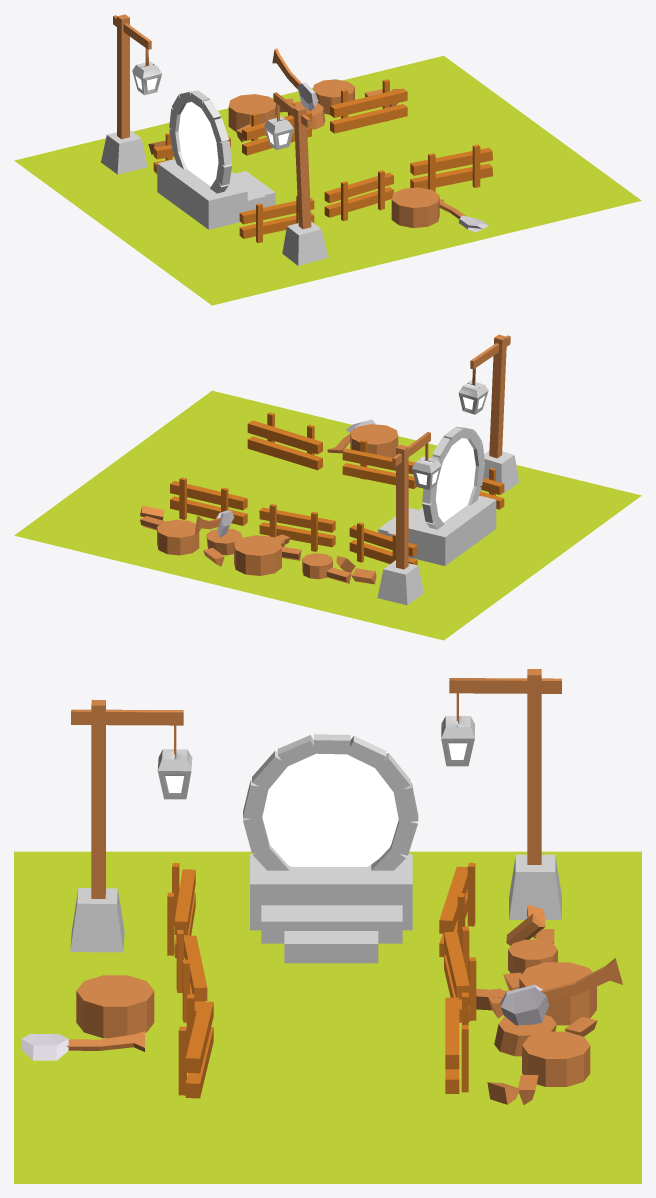
The model's file is mofa.glb.
3 views of the same model, one above another, from view 1: azimuth 30°, elevation 25°; view 2: azimuth 150°, elevation 25°; view 3: azimuth 270°, elevation 25° (orthographic). The views are drawn at different scales.
Visible parts, largest first — view 1: 平面, 立方体.036, huan, 柱体.013, 立方体.032, 立方体.027, 立方体.031, 立方体.026, 柱体.003, 立方体.003, 立方体.002, 立方体.010 (+13 smaller); view 2: 平面, 立方体.036, huan, 柱体.003, 立方体.032, 立方体.027, 立方体.026, 柱体.002, 柱体.013, 立方体.011, 立方体.010, 立方体.031 (+14 smaller); view 3: 平面, huan, 立方体.036, 柱体.013, 立方体.037, 柱体.002, 立方体.049, 立方体.031, 立方体.032, 立方体.027, 立方体.026, 柱体.003 (+22 smaller).
Boxes of the visible parts, x1,y1,x2,y2 form: 平面: [14, 55, 641, 305]; 立方体.036: [157, 159, 247, 229]; huan: [178, 102, 218, 186]; 柱体.013: [391, 187, 439, 227]; 立方体.032: [293, 105, 311, 229]; 立方体.027: [117, 14, 129, 139]; 立方体.031: [282, 221, 328, 265]; 立方体.026: [101, 130, 147, 174]; 柱体.003: [228, 94, 276, 131]; 立方体.003: [330, 104, 407, 133]; 立方体.002: [330, 88, 407, 117]; 立方体.010: [410, 147, 492, 175]; 平面: [14, 390, 641, 640]; 立方体.036: [408, 495, 496, 565]; huan: [436, 438, 475, 522]; 柱体.003: [234, 535, 281, 575]; 立方体.032: [489, 334, 506, 458]; 立方体.027: [396, 444, 408, 569]; 立方体.026: [377, 560, 423, 605]; 柱体.002: [157, 519, 199, 555]; 柱体.013: [350, 424, 398, 457]; 立方体.011: [247, 436, 322, 470]; 立方体.010: [247, 420, 322, 454]; 立方体.031: [483, 451, 519, 494]; 平面: [14, 851, 641, 1183]; huan: [262, 753, 398, 866]; 立方体.036: [250, 854, 412, 930]; 柱体.013: [76, 975, 154, 1038]; 立方体.037: [261, 905, 402, 943]; 柱体.002: [522, 1031, 590, 1086]; 立方体.049: [284, 931, 378, 963]; 立方体.031: [70, 888, 124, 952]; 立方体.032: [91, 699, 105, 898]; 立方体.027: [527, 669, 541, 864]; 立方体.026: [509, 854, 561, 919]; 柱体.003: [519, 962, 596, 1025].
Bounding box in the file's own units: 18.25 × 6.09 × 14.57.
